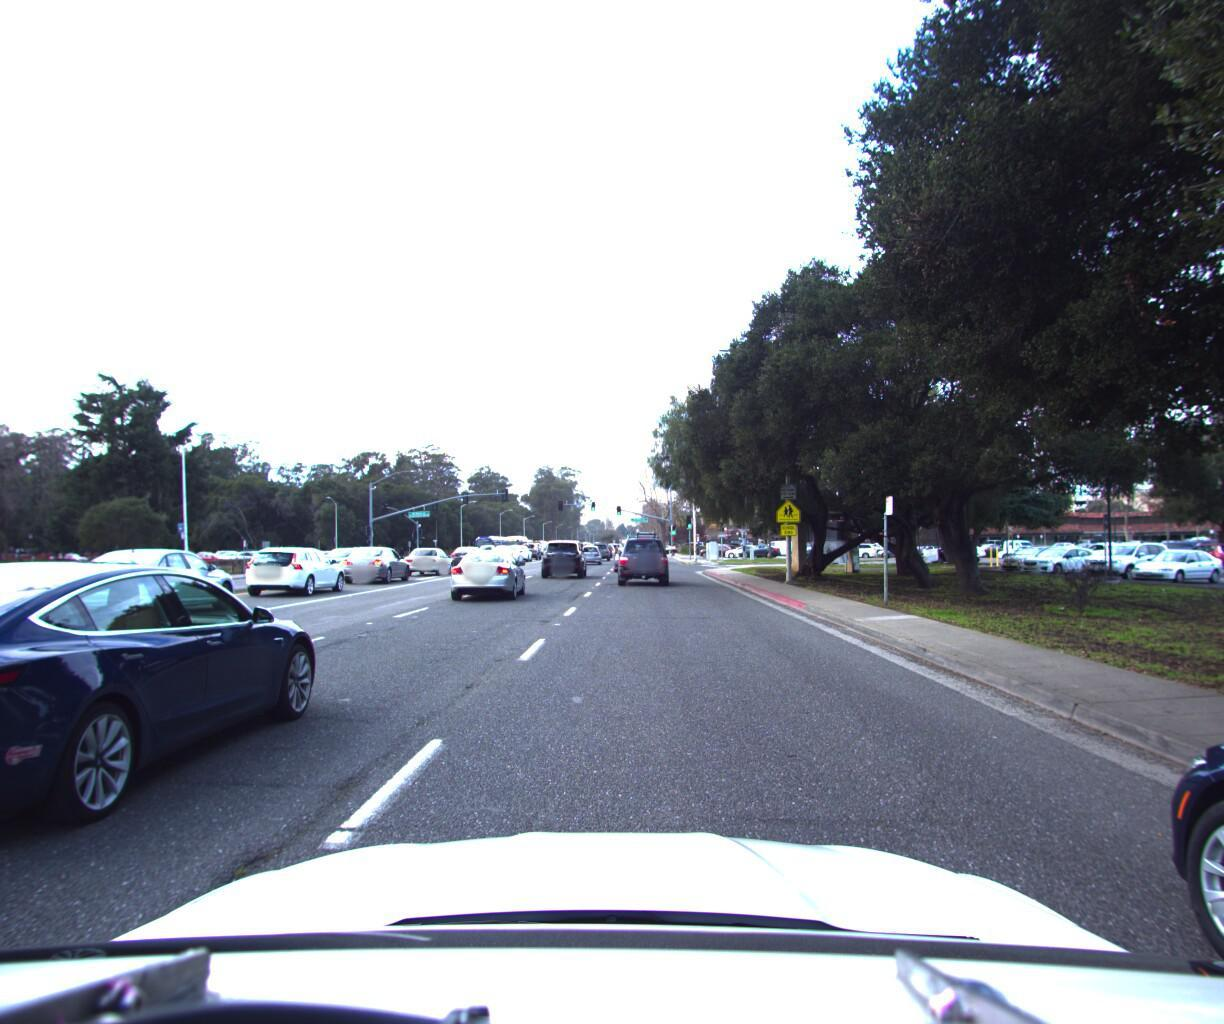car: (57, 543, 248, 622), (239, 541, 353, 595), (445, 543, 529, 598), (339, 539, 418, 579), (619, 524, 671, 581), (542, 532, 588, 573), (401, 538, 456, 570), (447, 539, 488, 564), (604, 541, 637, 568), (734, 536, 781, 551), (494, 539, 524, 558), (506, 538, 534, 555), (582, 539, 604, 558), (519, 536, 543, 554), (591, 535, 612, 554)
